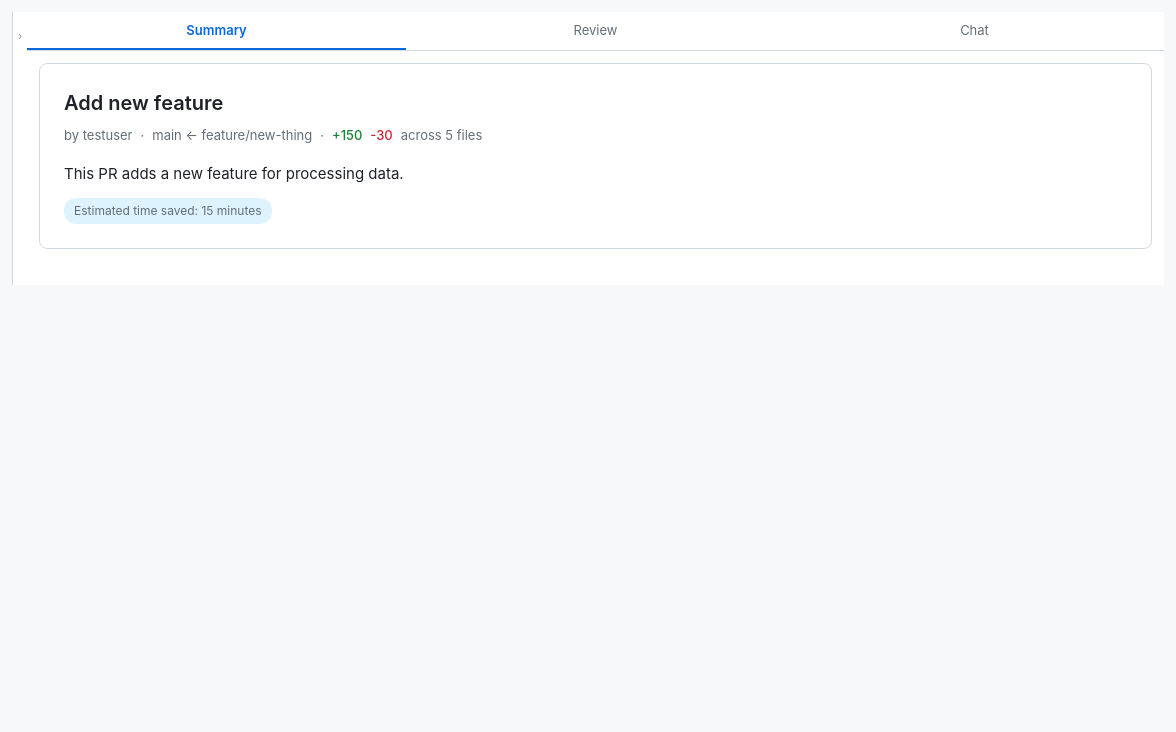
Test case: RightRail › switches back from Review to Summary tab
The image size is (1176, 732).
Note: go to review
Click the button "Review": click(596, 31) [406,12,785,50]
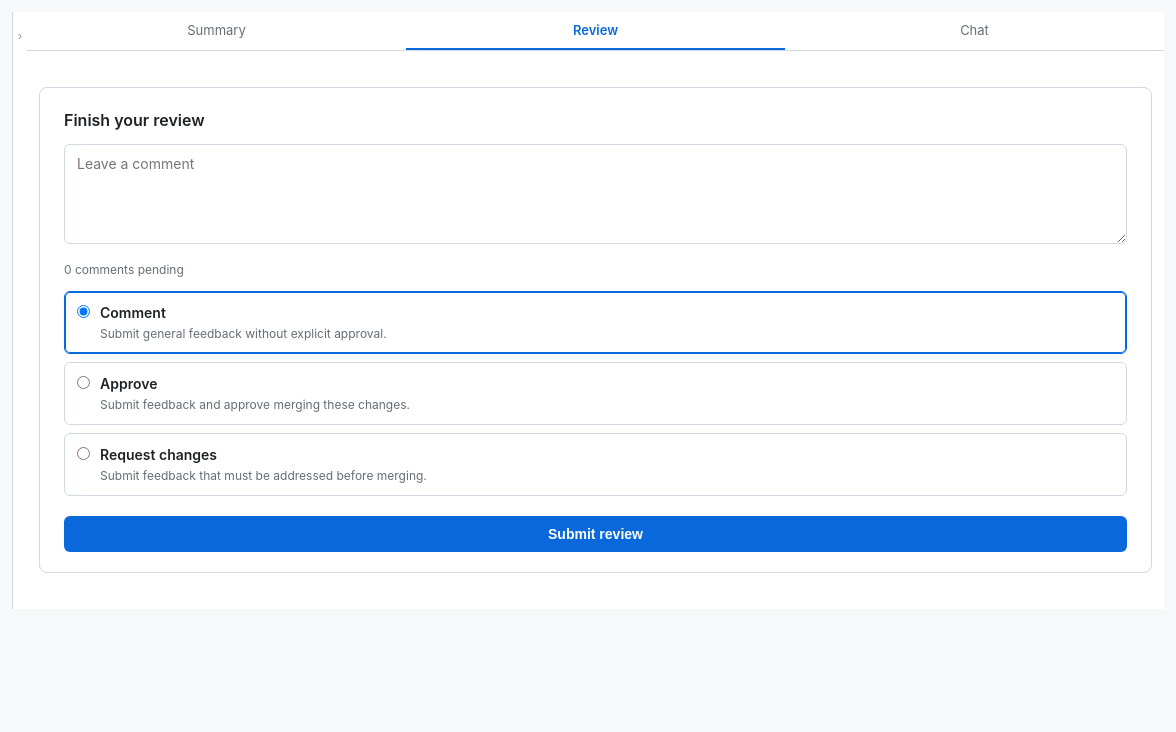
Expected: the heading "Finish your review" is shown, [64,110,205,130]
Note: switch back to summary
Click the button "Summary": click(216, 31) [27,12,406,50]
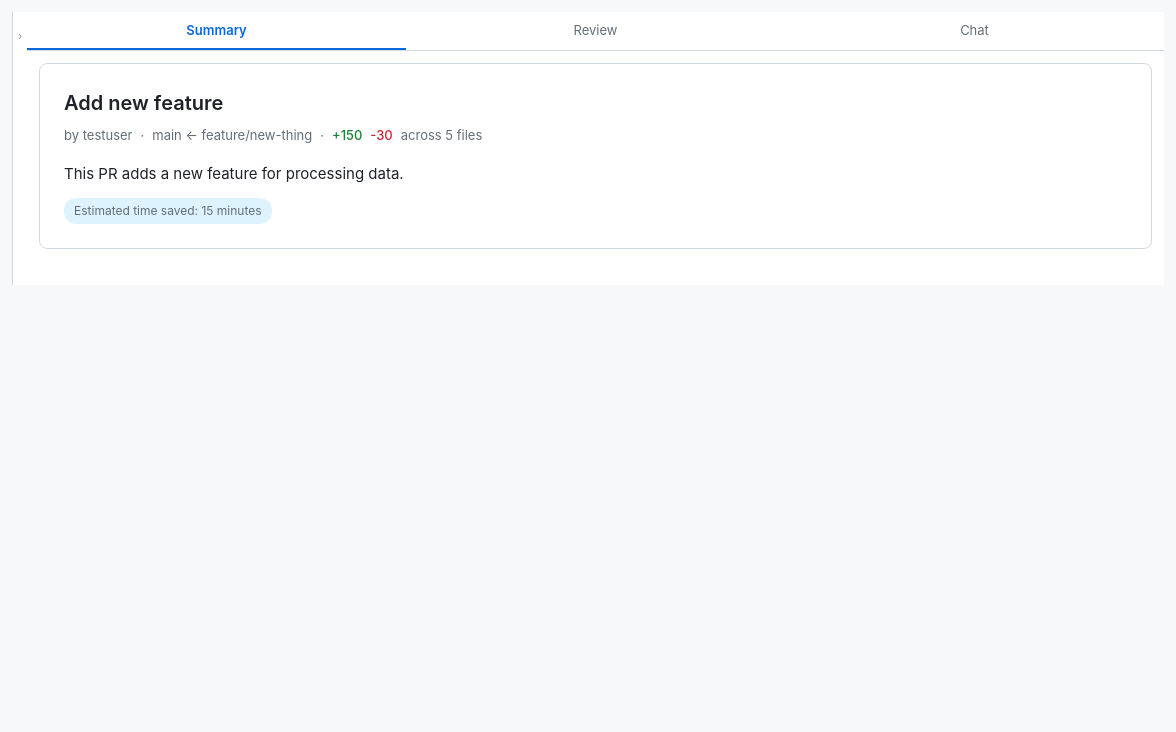
Expected: the heading "Add new feature" is shown, [64,91,223,115]
